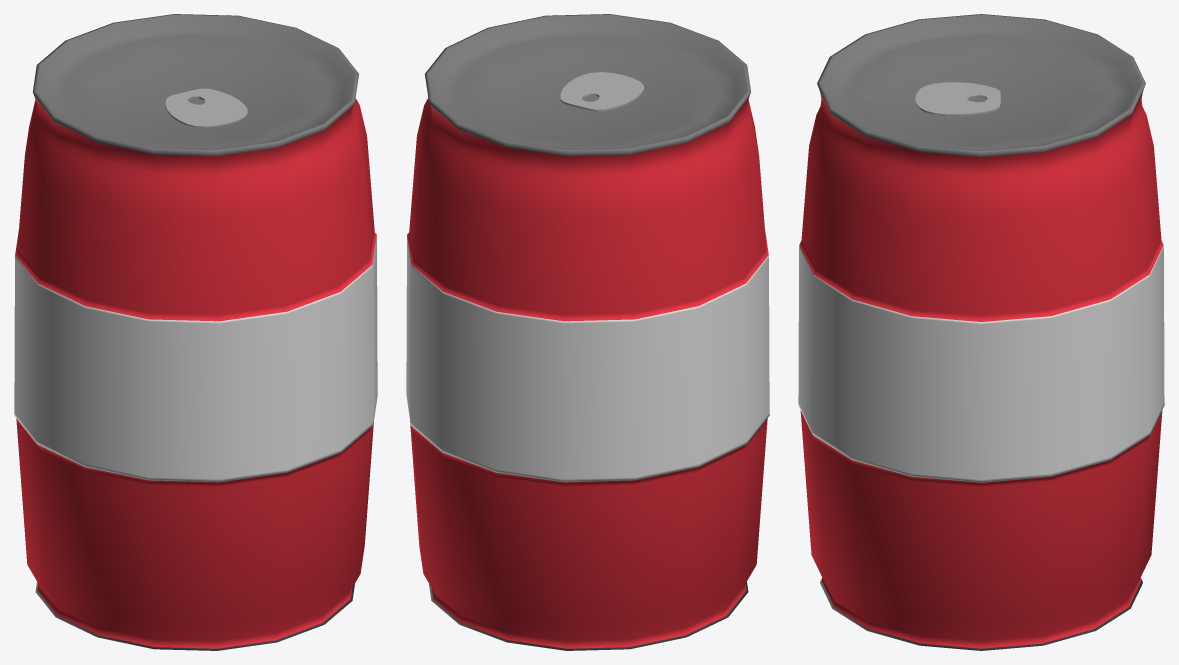
The model's file is Coke.fbx.
3 renders of one model, left to right at view 1: azimuth 30°, elevation 25°; view 2: azimuth 150°, elevation 25°; view 3: azimuth 270°, elevation 25°, orthographic.
Parts seen in each view (by area): view 1: Coke; view 2: Coke; view 3: Coke.
Boxes of the visible parts, left/top/right/bottom form: Coke: left=14, top=14, right=377, bottom=650; Coke: left=406, top=14, right=769, bottom=650; Coke: left=798, top=14, right=1164, bottom=650.
Size of the model in its own units: 35.76 by 53.85 by 35.76.
